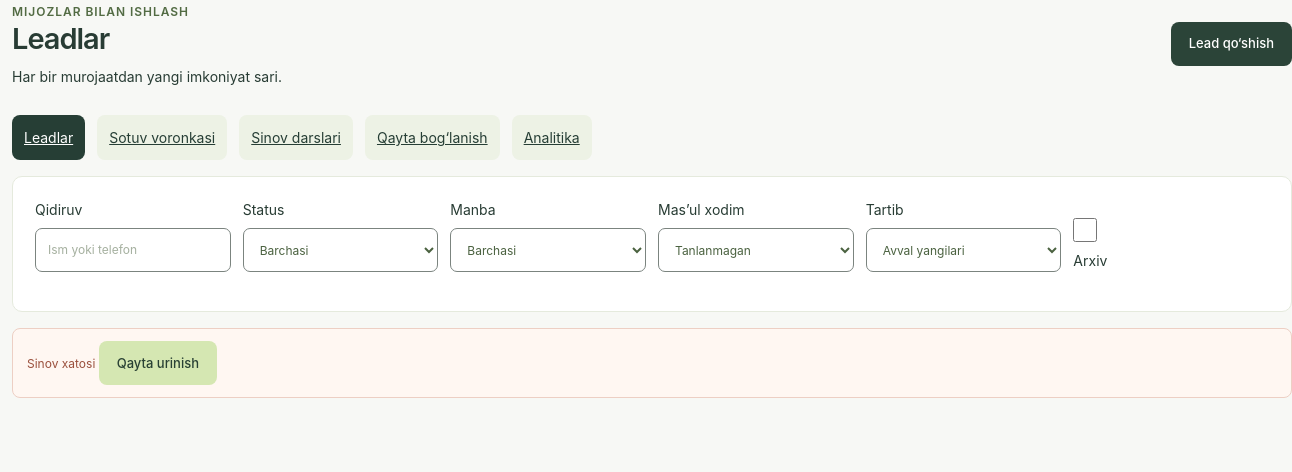
shows recoverable error then an empty state
expect the message shows "Sinov xatosi": met, box [27,356,95,371]
Click the button "Qayta urinish" at (158, 363), box [99,341,217,385]
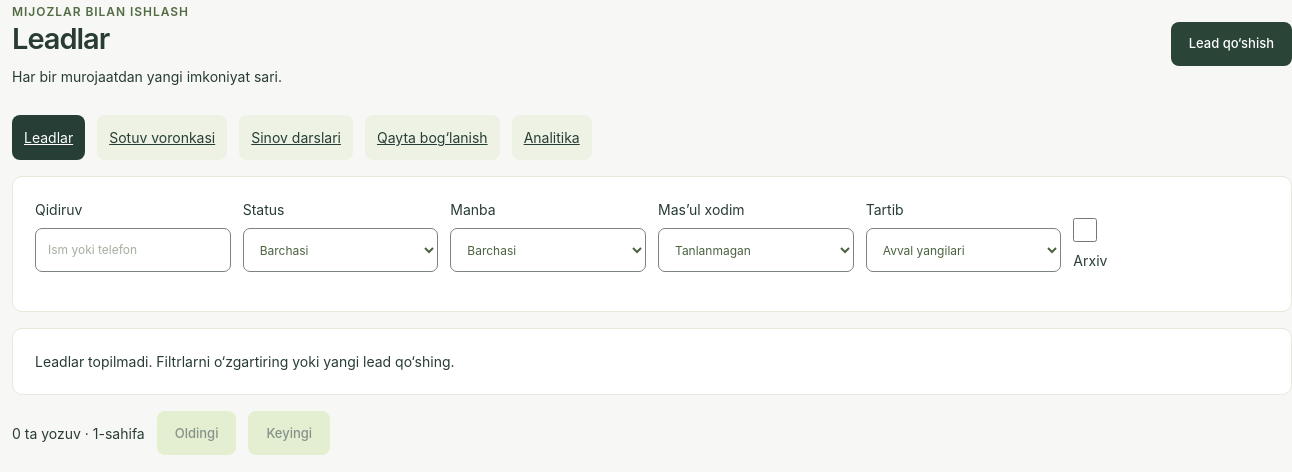
expect the text "Leadlar topilmadi" is shown: met, box [35,353,454,370]
